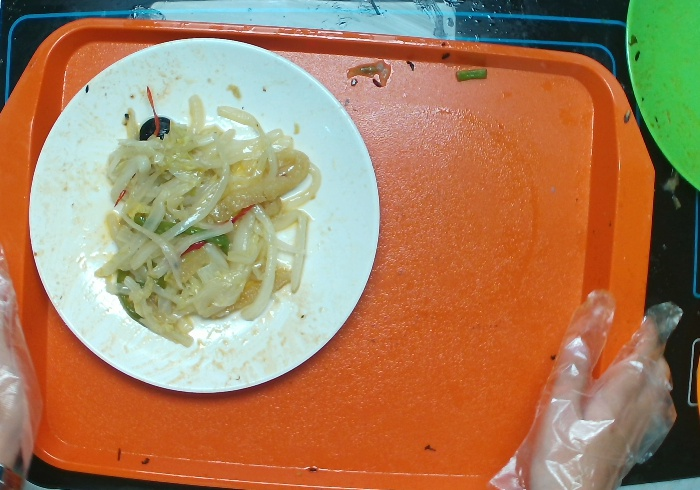HZYJPL-Bai_Se_Yuan_Pan: (26, 30, 395, 400)
